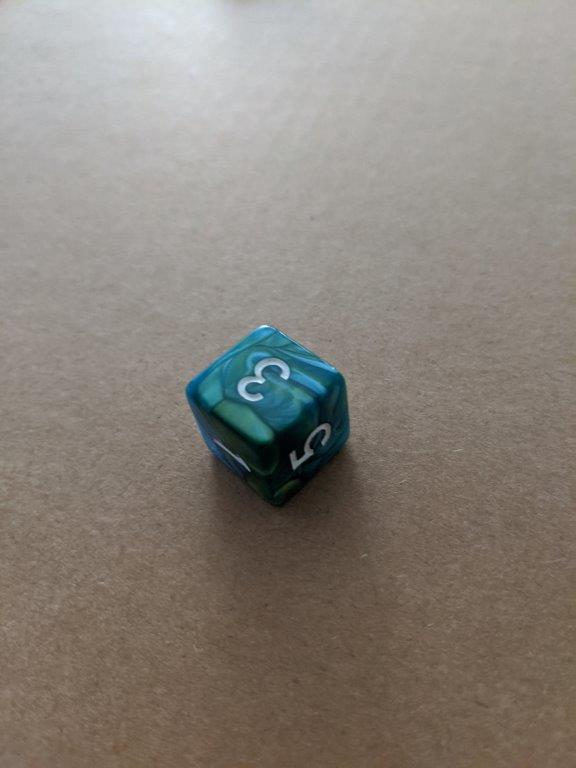d6-3: (184, 324, 352, 509)
